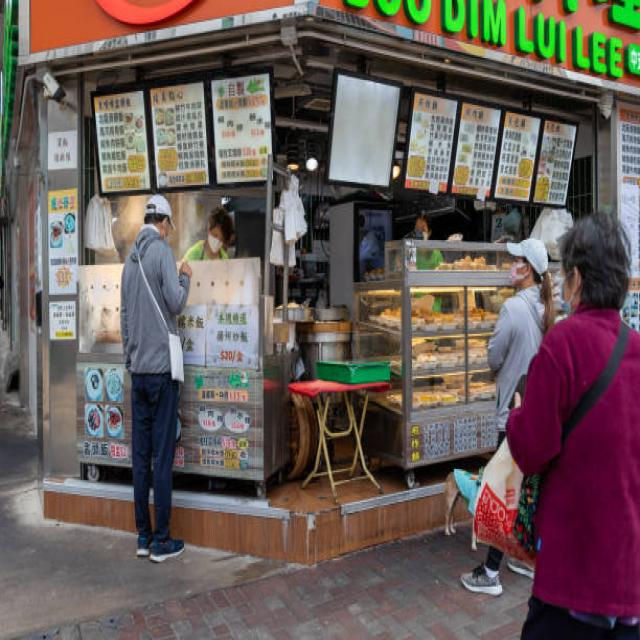Emperan: (30, 0, 640, 579)
